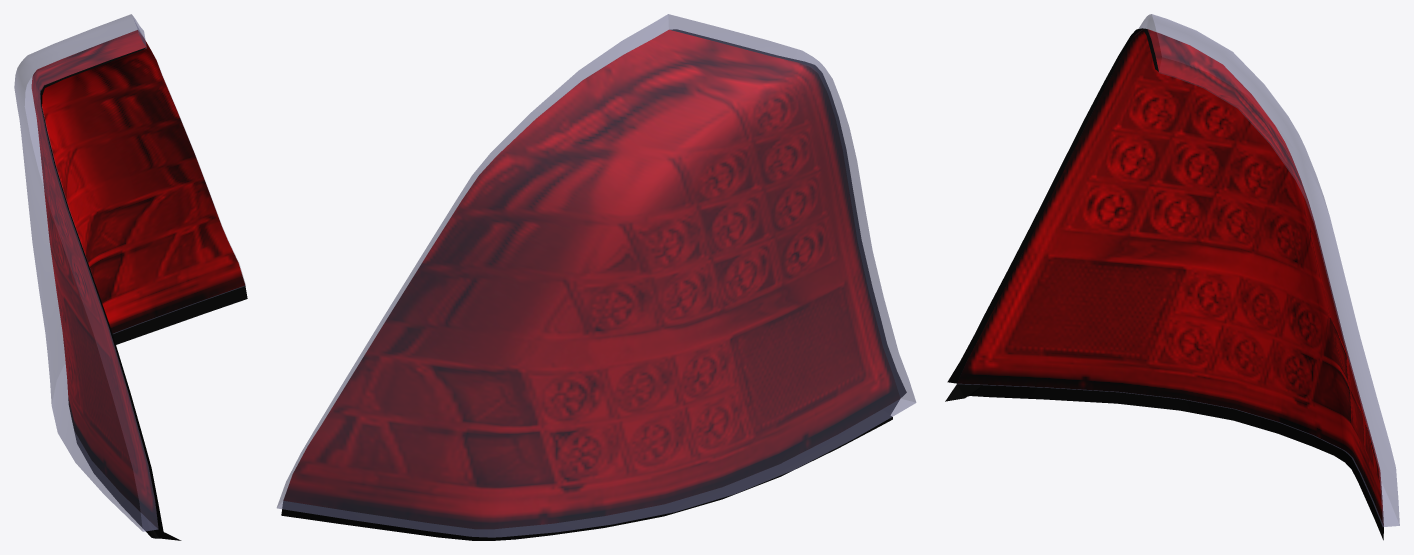
3 views of the same model, side by side, from view 1: azimuth 30°, elevation 25°; view 2: azimuth 150°, elevation 25°; view 3: azimuth 270°, elevation 25° (orthographic). The views are drawn at different scales.
Visible parts, largest first — view 1: H026_541C_L_1_N_H026_541C_L, H026_541C_L_H026_541C_L_2_DTaSI, H026_541C_L_H026_541C_L_3_D; view 2: H026_541C_L_H026_541C_L_2_DTaSI, H026_541C_L_1_N_H026_541C_L, H026_541C_L_H026_541C_L_3_D; view 3: H026_541C_L_1_N_H026_541C_L, H026_541C_L_H026_541C_L_2_DTaSI, H026_541C_L_H026_541C_L_3_D.
Part boxes in pixels (x1,y1,x2,y2): H026_541C_L_1_N_H026_541C_L: (31,30,244,528); H026_541C_L_H026_541C_L_2_DTaSI: (14,14,245,531); H026_541C_L_H026_541C_L_3_D: (40,47,247,540); H026_541C_L_H026_541C_L_2_DTaSI: (277,14,916,537); H026_541C_L_1_N_H026_541C_L: (283,30,900,529); H026_541C_L_H026_541C_L_3_D: (281,29,906,540); H026_541C_L_1_N_H026_541C_L: (957,29,1383,525); H026_541C_L_H026_541C_L_2_DTaSI: (965,14,1399,526); H026_541C_L_H026_541C_L_3_D: (945,28,1383,540).
Bounding box in the file's own units: 25.25 × 27.77 × 29.94.
